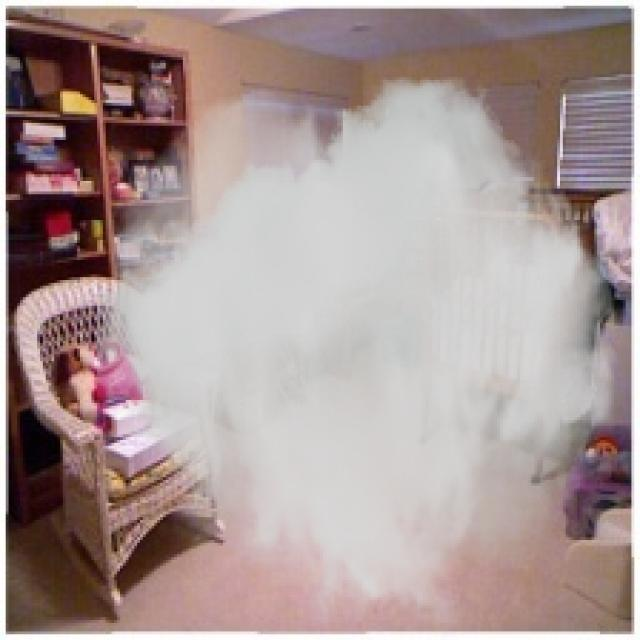Smoke: (97, 77, 626, 637)
